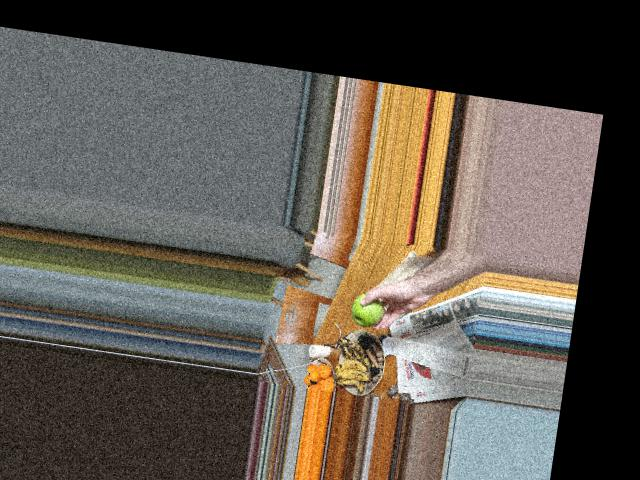apple: (346, 290, 391, 330)
